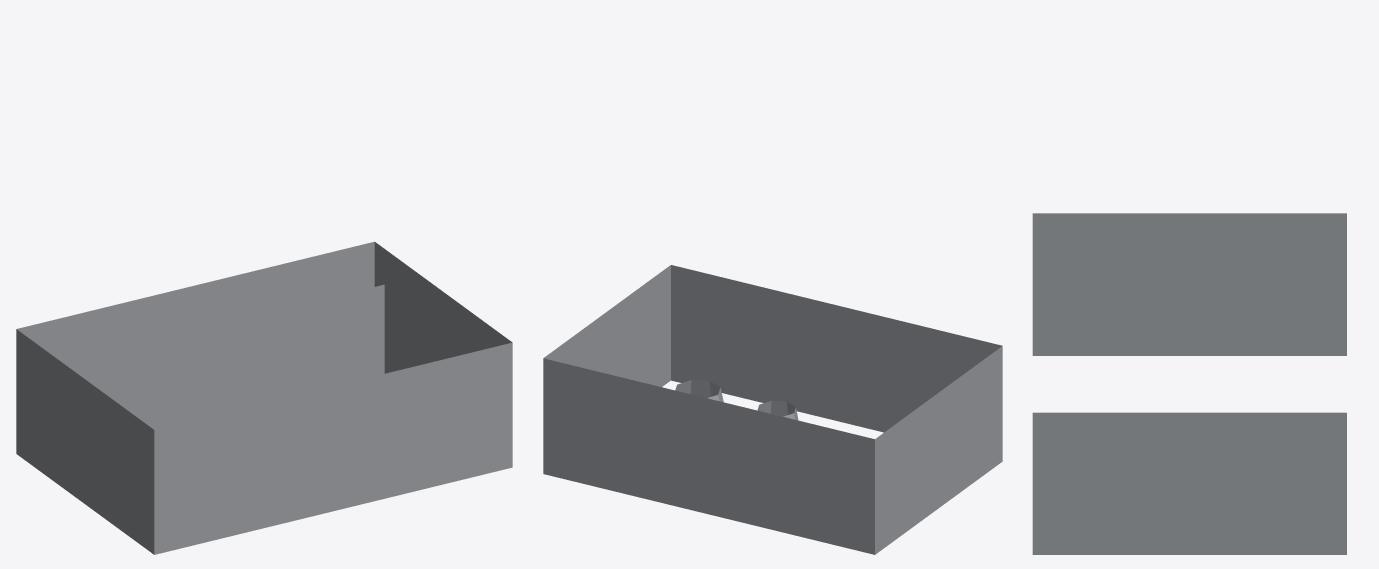
Rendered from Bld_I_med_L4_B.fbx.
3 renders of one model, left to right at view 1: azimuth 30°, elevation 25°; view 2: azimuth 150°, elevation 25°; view 3: azimuth 270°, elevation 25°, orthographic. The views are drawn at different scales.
Visible parts, largest first — view 1: Bld_I_med_L4_B_LOD0; view 2: Bld_I_med_L4_B_LOD0; view 3: Bld_I_med_L4_B_LOD0.
Part boxes in pixels (x1,y1,x2,y2): Bld_I_med_L4_B_LOD0: (16,241,512,554); Bld_I_med_L4_B_LOD0: (543,265,1002,554); Bld_I_med_L4_B_LOD0: (1032,213,1346,554).
Size of what is drawn, in the model's own units: 2160 by 2425 by 1487.
1 material, 1 textured.
